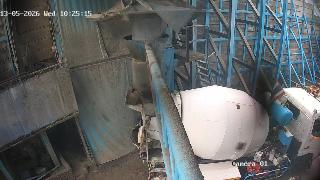cement_mixer_truck: (124, 84, 320, 180)
swing_chute: (123, 35, 169, 97)
